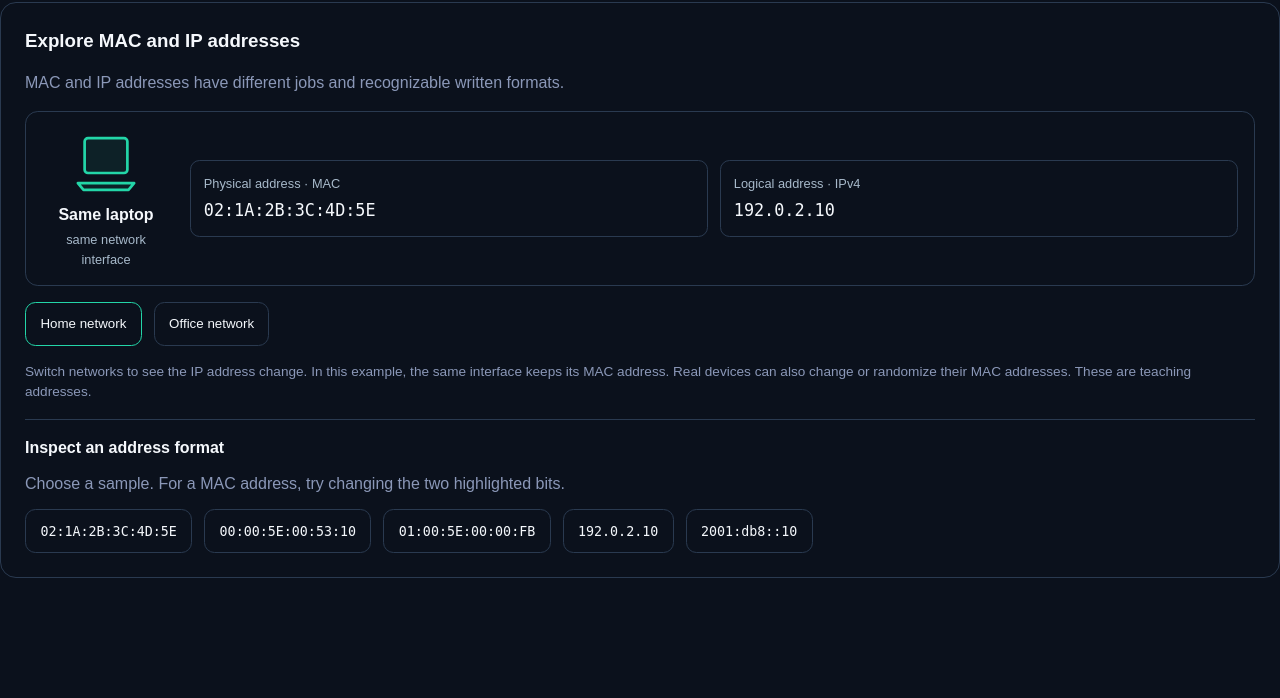
Scenario: AddressFormatInspector › updates the rightmost I/G bit and next U/L bit without changing the rest of the MAC
The image size is (1280, 698).
What coordinates should you click on to do the following:
click the button "02:1A:2B:3C:4D:5E"
I would click on:
 (109, 531)
Its box is [25, 509, 192, 553].
(page scrolled)
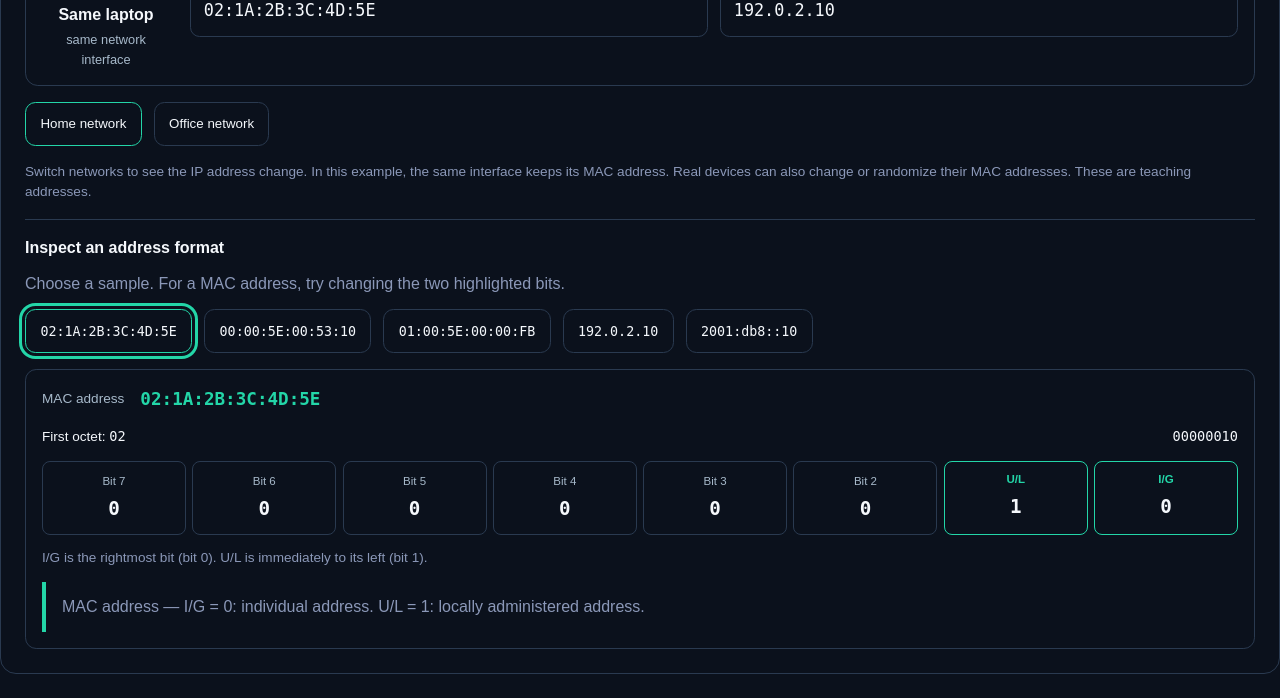
Now the text named "First octet in binary" reads "00000010", box [1172, 428, 1238, 444]
Now the text named "Selected address" reads "02:1A:2B:3C:4D:5E", box [140, 389, 320, 409]
What coordinates should you click on to do the following:
click the button named "Toggle I/G bit"
I would click on:
 (1166, 498)
Its box is [1094, 461, 1238, 535].
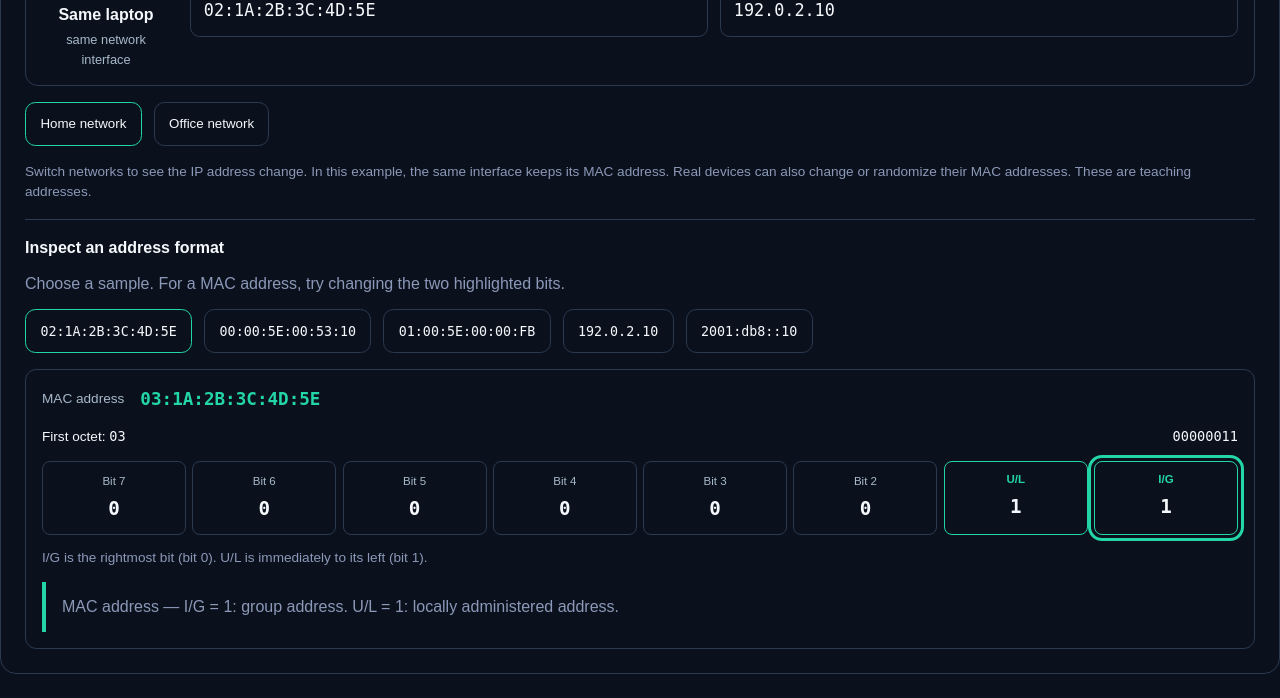
Now the text named "First octet in binary" reads "00000011", box [1172, 428, 1238, 444]
Now the text named "Selected address" reads "03:1A:2B:3C:4D:5E", box [140, 389, 320, 409]
Now the message reads "MAC address — I/G = 1: group address. U/L = 1: locally administered address.", box [62, 598, 619, 615]
What coordinates should you click on to do the following:
click the button named "Toggle U/L bit"
I would click on:
 (1016, 498)
Its box is [944, 461, 1088, 535].
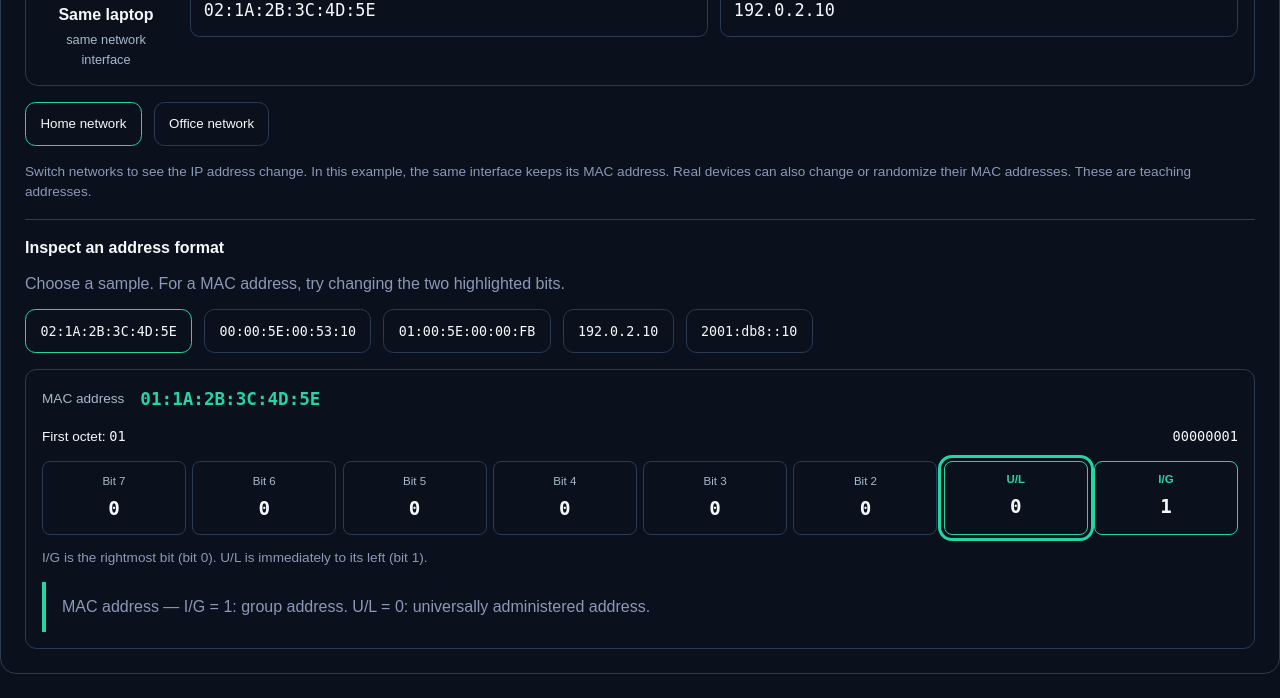
Now the text named "First octet in binary" reads "00000001", box [1172, 428, 1238, 444]
Now the text named "Selected address" reads "01:1A:2B:3C:4D:5E", box [140, 389, 320, 409]
What coordinates should you click on to do the following:
click the button named "Toggle I/G bit"
I would click on:
 (1166, 498)
Its box is [1094, 461, 1238, 535].
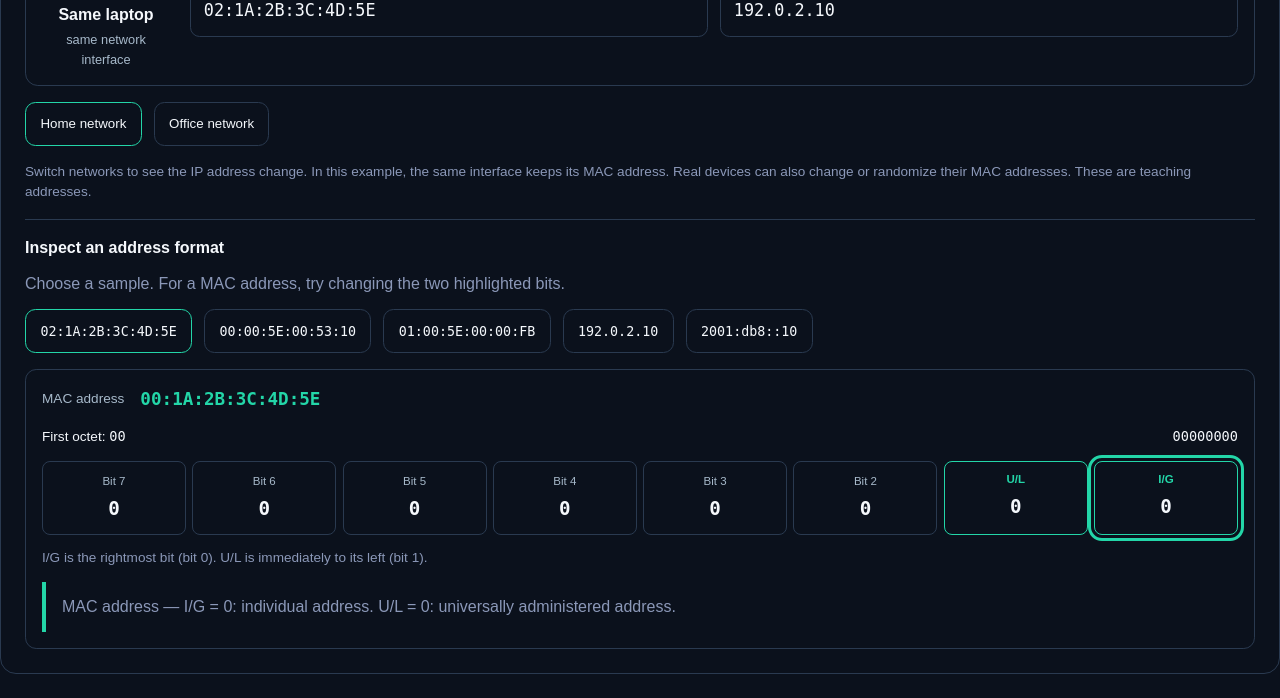
Now the text named "First octet in binary" reads "00000000", box [1172, 428, 1238, 444]
